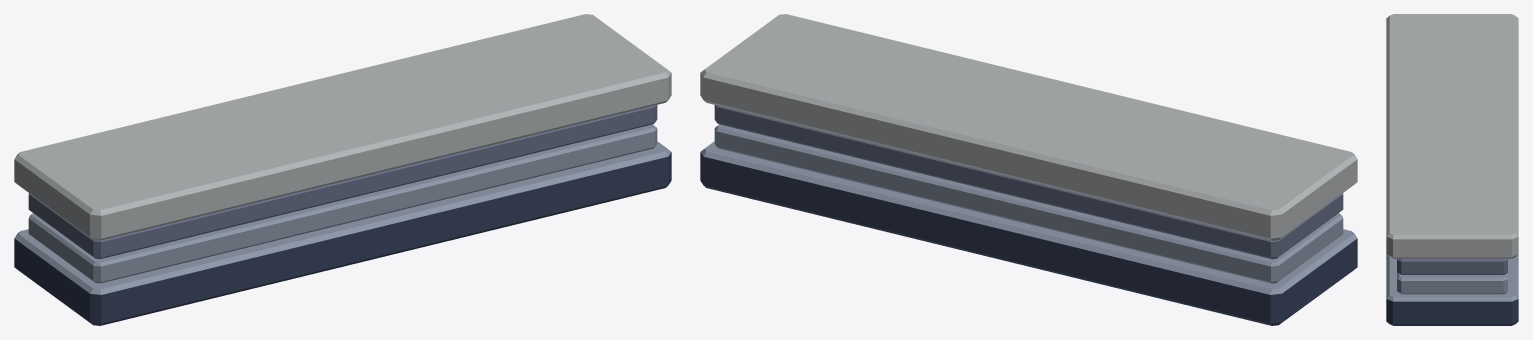
Rendered from wall-low.glb.
3 renders of one model, left to right at view 1: azimuth 30°, elevation 25°; view 2: azimuth 150°, elevation 25°; view 3: azimuth 270°, elevation 25°, orthographic. The views are drawn at different scales.
Parts seen in each view (by area): view 1: wall-low__body; view 2: wall-low__body; view 3: wall-low__body.
Boxes of the visible parts, box(x1,y1,x2,y2) form: wall-low__body: box(14, 14, 671, 325); wall-low__body: box(700, 14, 1357, 325); wall-low__body: box(1386, 14, 1518, 325).
Size of the model in its own units: 2 by 0.38 by 0.5.
